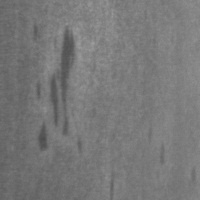inclusion: (45, 19, 80, 142), (138, 122, 171, 168), (29, 115, 52, 155), (103, 162, 121, 199)
